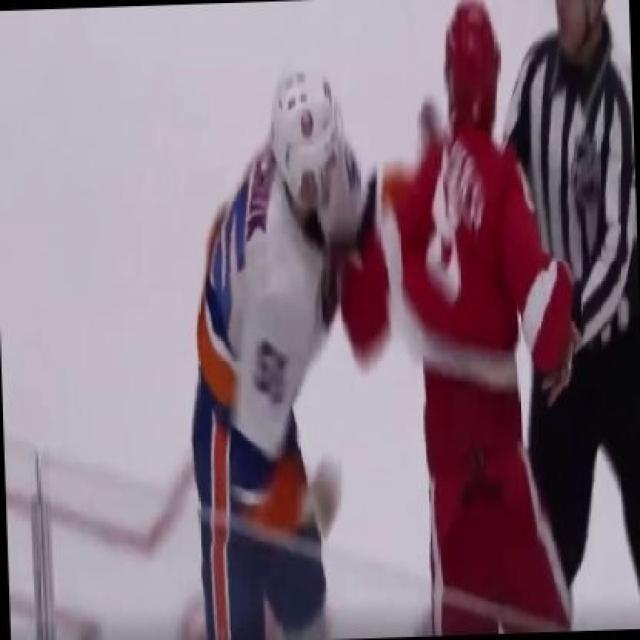fight: (154, 9, 581, 638)
non-fight: (455, 0, 638, 632)
